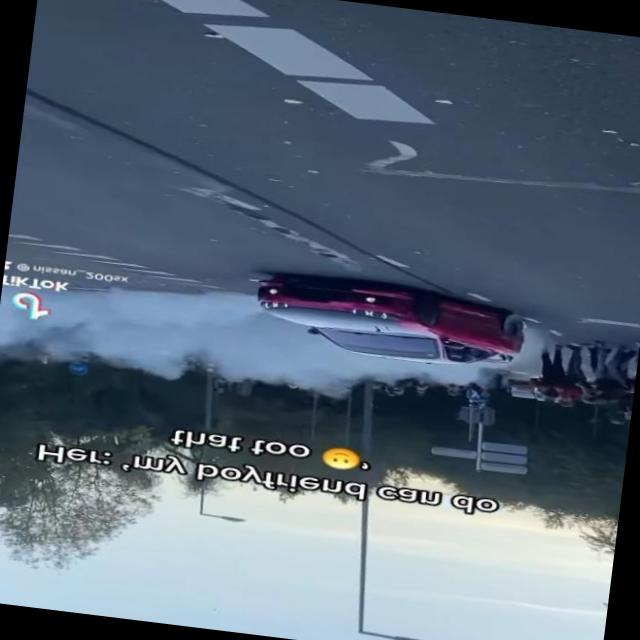car: (249, 269, 527, 378)
